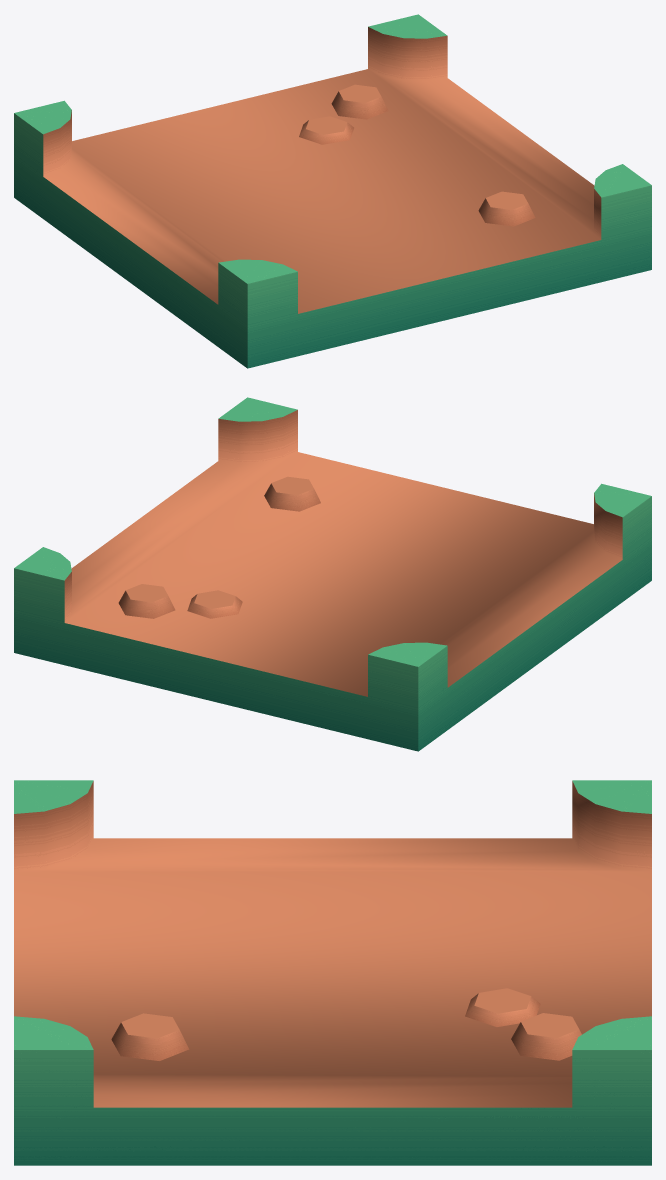
Rendered from tile-crossing.glb.
3 renders of one model, top to bottom at view 1: azimuth 30°, elevation 25°; view 2: azimuth 150°, elevation 25°; view 3: azimuth 270°, elevation 25°, orthographic. The views are drawn at different scales.
Visible parts, largest first — view 1: tile-crossing; view 2: tile-crossing; view 3: tile-crossing.
Boxes of the visible parts, <box> form: tile-crossing: <box>14,14,651,368</box>; tile-crossing: <box>14,397,651,751</box>; tile-crossing: <box>14,780,651,1165</box>.
Bounding box in the file's own units: 3 × 0.6 × 3.
1 material, 1 textured.
